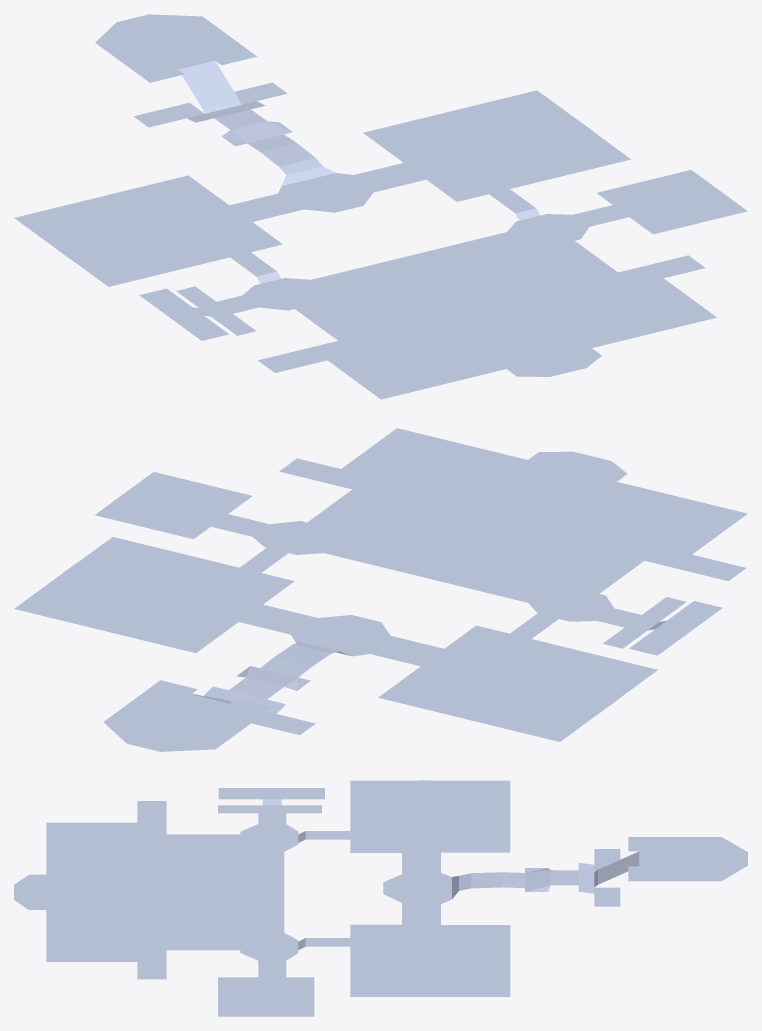
Rendered from scene_gelansaier_xingzouquyu01.FBX.
3 views of the same model, one above another, from view 1: azimuth 30°, elevation 25°; view 2: azimuth 150°, elevation 25°; view 3: azimuth 270°, elevation 25° (orthographic). The views are drawn at different scales.
Visible parts, largest first — view 1: scene_gelansaier_xingzouquyu01; view 2: scene_gelansaier_xingzouquyu01; view 3: scene_gelansaier_xingzouquyu01.
Boxes of the visible parts, box(x1,y1,x2,y2) form: scene_gelansaier_xingzouquyu01: box(14, 14, 747, 399); scene_gelansaier_xingzouquyu01: box(14, 428, 747, 751); scene_gelansaier_xingzouquyu01: box(14, 780, 747, 1016).
Bounding box in the file's own units: 11582 × 752 × 15452.
